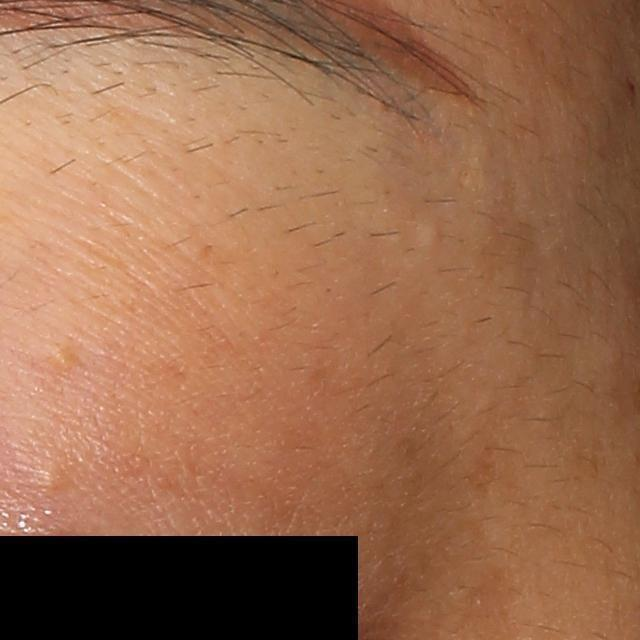comedo: (36, 461, 68, 495)
